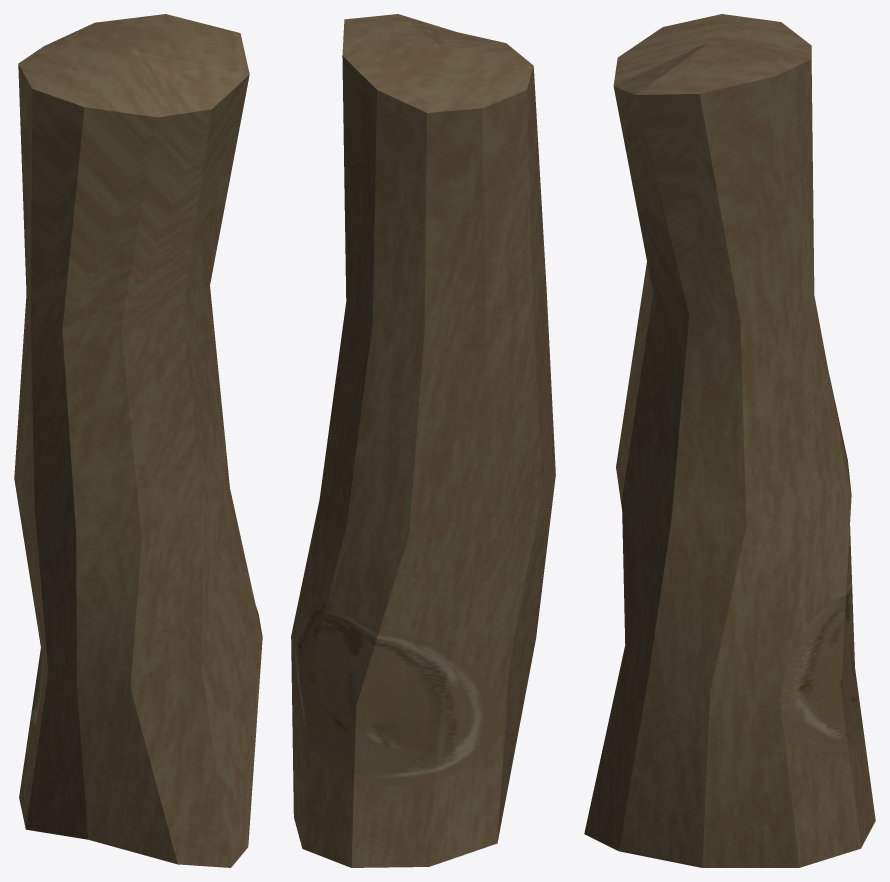
The model's file is m_Tree.obj.
3 views of the same model, side by side, from view 1: azimuth 30°, elevation 25°; view 2: azimuth 150°, elevation 25°; view 3: azimuth 270°, elevation 25° (orthographic).
Parts seen in each view (by area): view 1: pCylinder1; view 2: pCylinder1; view 3: pCylinder1.
Boxes of the visible parts, x1,y1,x2,y2 form: pCylinder1: [14, 14, 262, 867]; pCylinder1: [291, 14, 555, 867]; pCylinder1: [584, 14, 875, 867].
Bounding box in the file's own units: 359 × 1178 × 401.
Materials: 1 (1 with a texture image).
